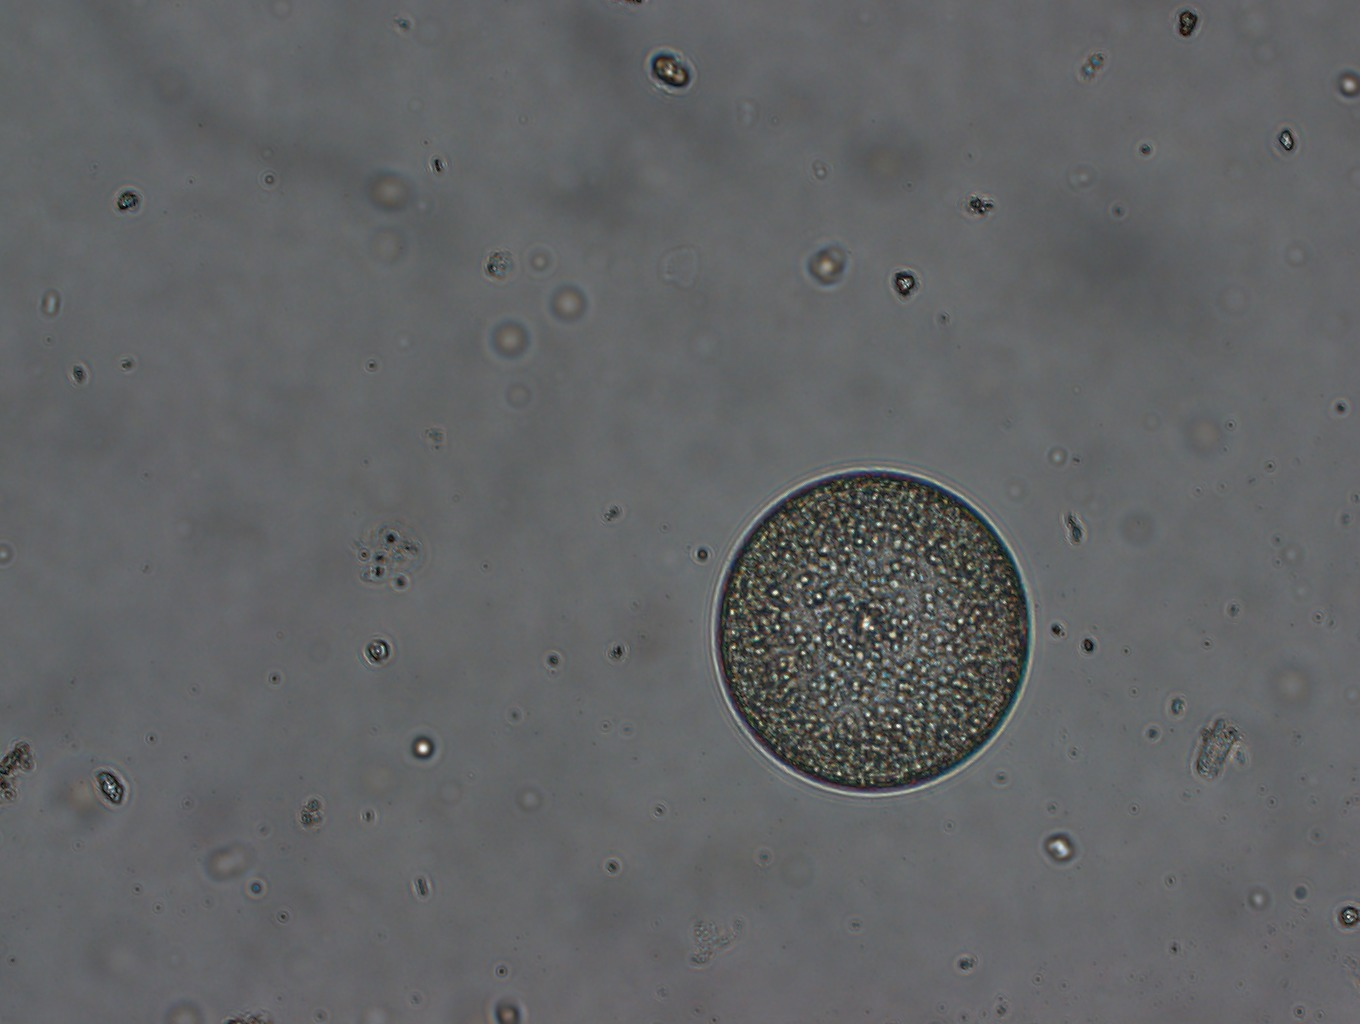coscinodiscus: (703, 465, 1039, 800)
